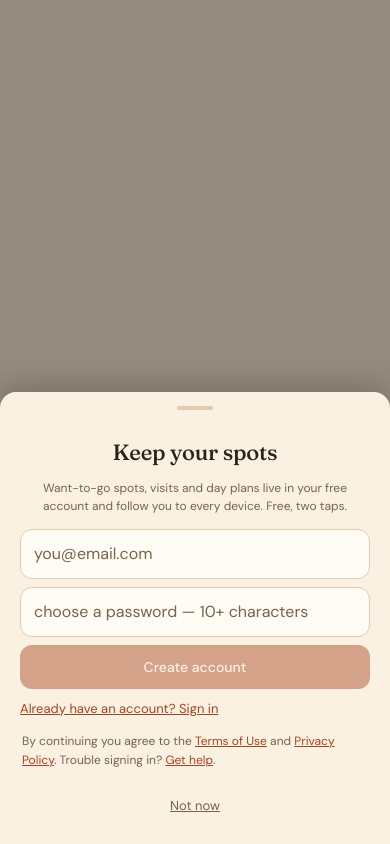
Scenario: Layout — guests browse › "Not now" goes back to browsing and drops the pending action
The width and height of the screenshot is (390, 844).
Step 1. Click the button "Not now" → (195, 805), box [170,796,220,815]
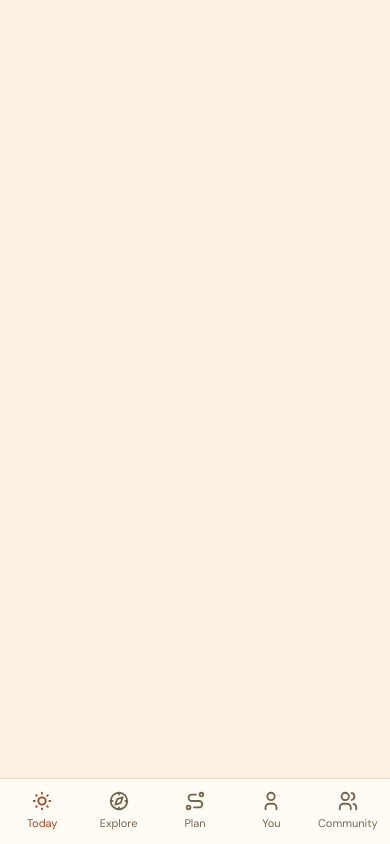
Expected: the dialog is gone
